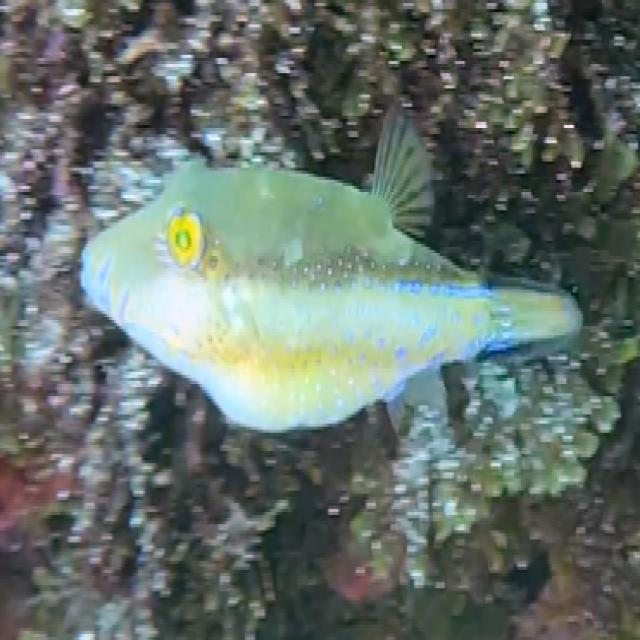Balik: (82, 107, 581, 432)
